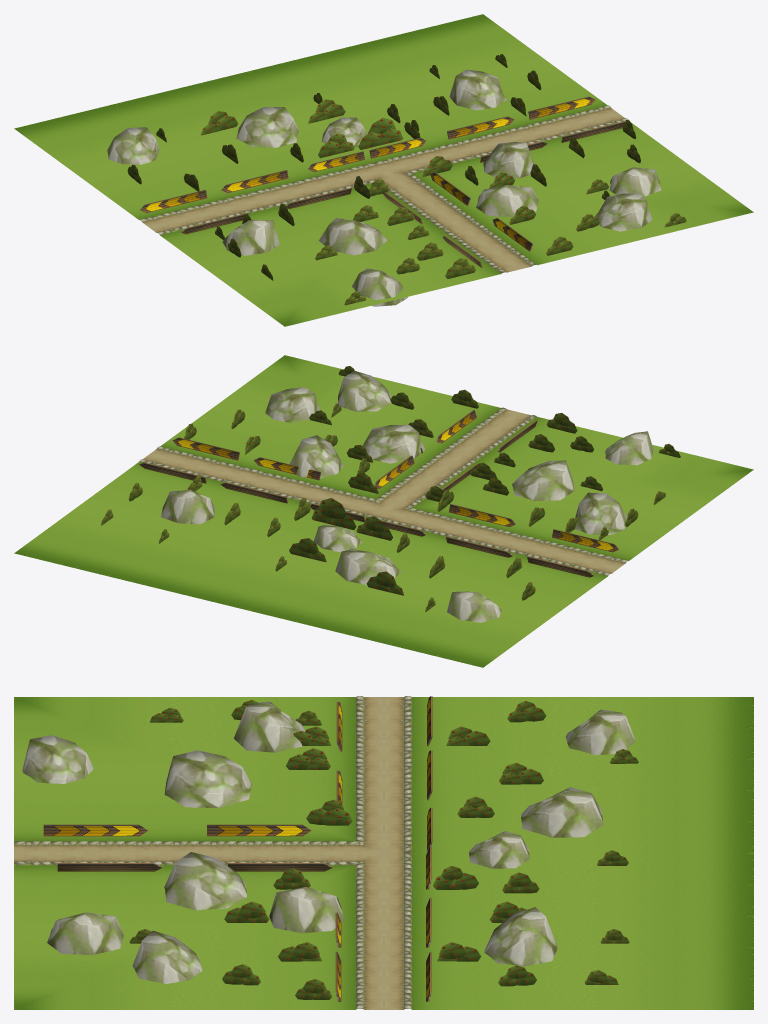
Rendered from ForestRoad02_Both.FBX.
The picture shows the model from 3 angles, top to bottom: view 1: azimuth 30°, elevation 25°; view 2: azimuth 150°, elevation 25°; view 3: azimuth 270°, elevation 25°; orthographic projection. The views are drawn at different scales.
Parts seen in each view (by area): view 1: Road, Stone (×11), Bush (×4), Fence (×4); view 2: Road, Stone (×11), Bush (×4), Fence (×3); view 3: Road, Stone (×11), Bush (×16), Fence (×4).
Boxes of the visible parts, x1,y1,x2,y2 form: Road: [14, 14, 753, 326]; Stone (×11): [107, 69, 661, 306]; Bush (×4): [201, 99, 403, 158]; Fence (×4): [140, 96, 595, 212]; Road: [14, 355, 753, 667]; Stone (×11): [161, 370, 653, 622]; Bush (×4): [289, 498, 403, 595]; Fence (×3): [172, 437, 619, 552]; Road: [14, 696, 753, 1009]; Stone (×11): [22, 701, 635, 984]; Bush (×16): [222, 701, 546, 999]; Fence (×4): [43, 824, 332, 871].
Bounding box in the file's own units: 10000 × 731 × 10000.
